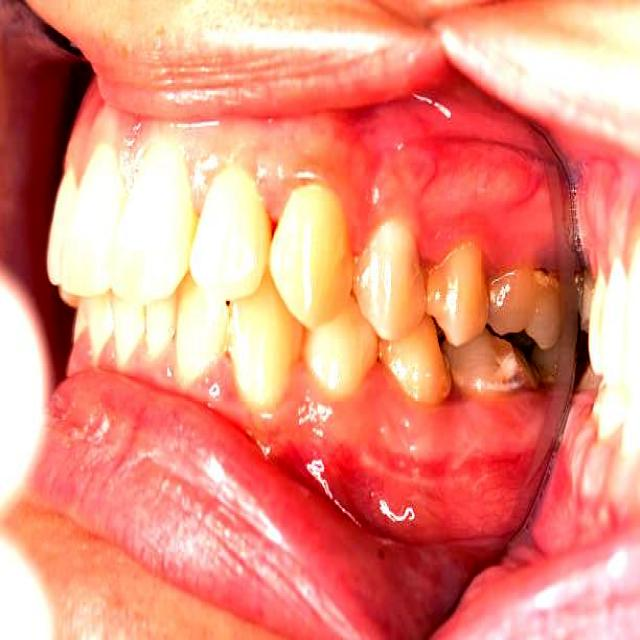gingivitis: (165, 78, 575, 289), (246, 386, 526, 504), (279, 400, 539, 527), (440, 400, 558, 439)
